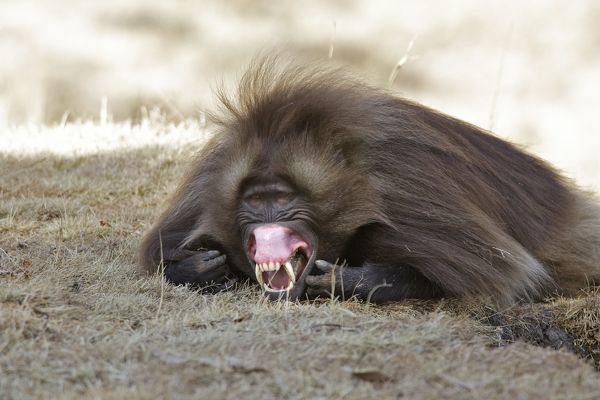Gelada: (166, 83, 581, 315)
